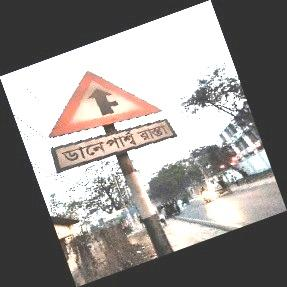Side-road-right: (48, 71, 173, 174)
